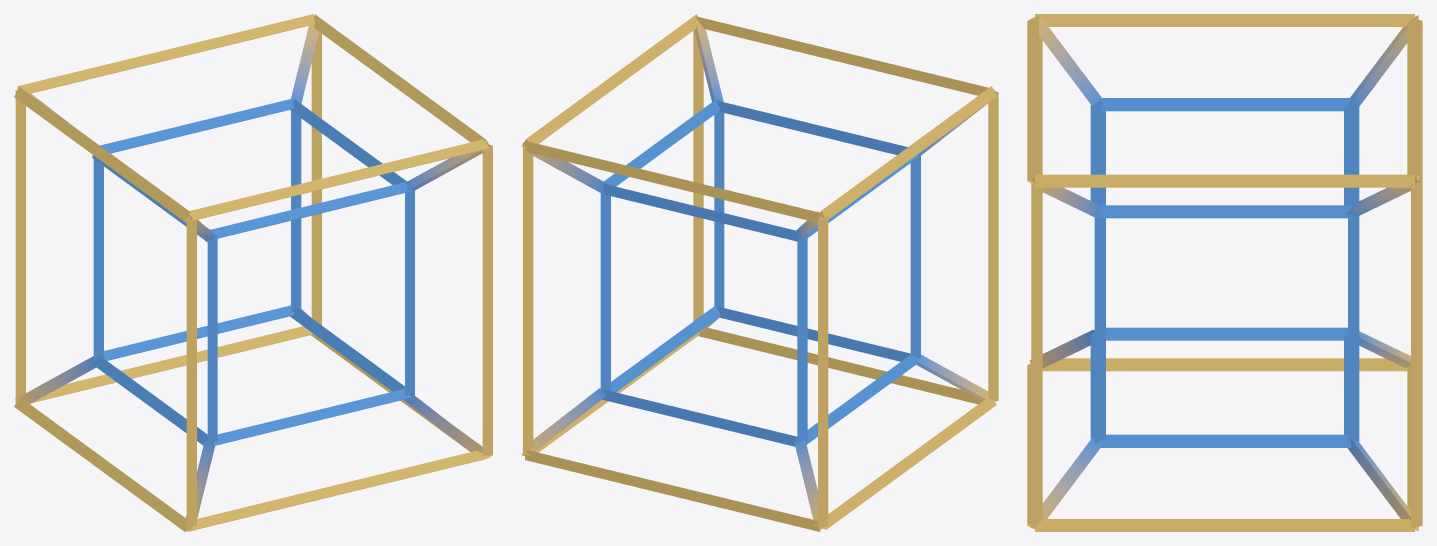
Rendered from example.gltf.
3 renders of one model, left to right at view 1: azimuth 30°, elevation 25°; view 2: azimuth 150°, elevation 25°; view 3: azimuth 270°, elevation 25°, orthographic. The views are drawn at different scales.
Parts seen in each view (by area): view 1: tesseract_rotation; view 2: tesseract_rotation; view 3: tesseract_rotation.
Boxes of the visible parts, x1,y1,x2,y2 form: tesseract_rotation: (14, 14, 492, 531); tesseract_rotation: (521, 14, 998, 531); tesseract_rotation: (1027, 14, 1422, 531).
Size of the model in its own units: 2.59 by 2.59 by 2.6.
